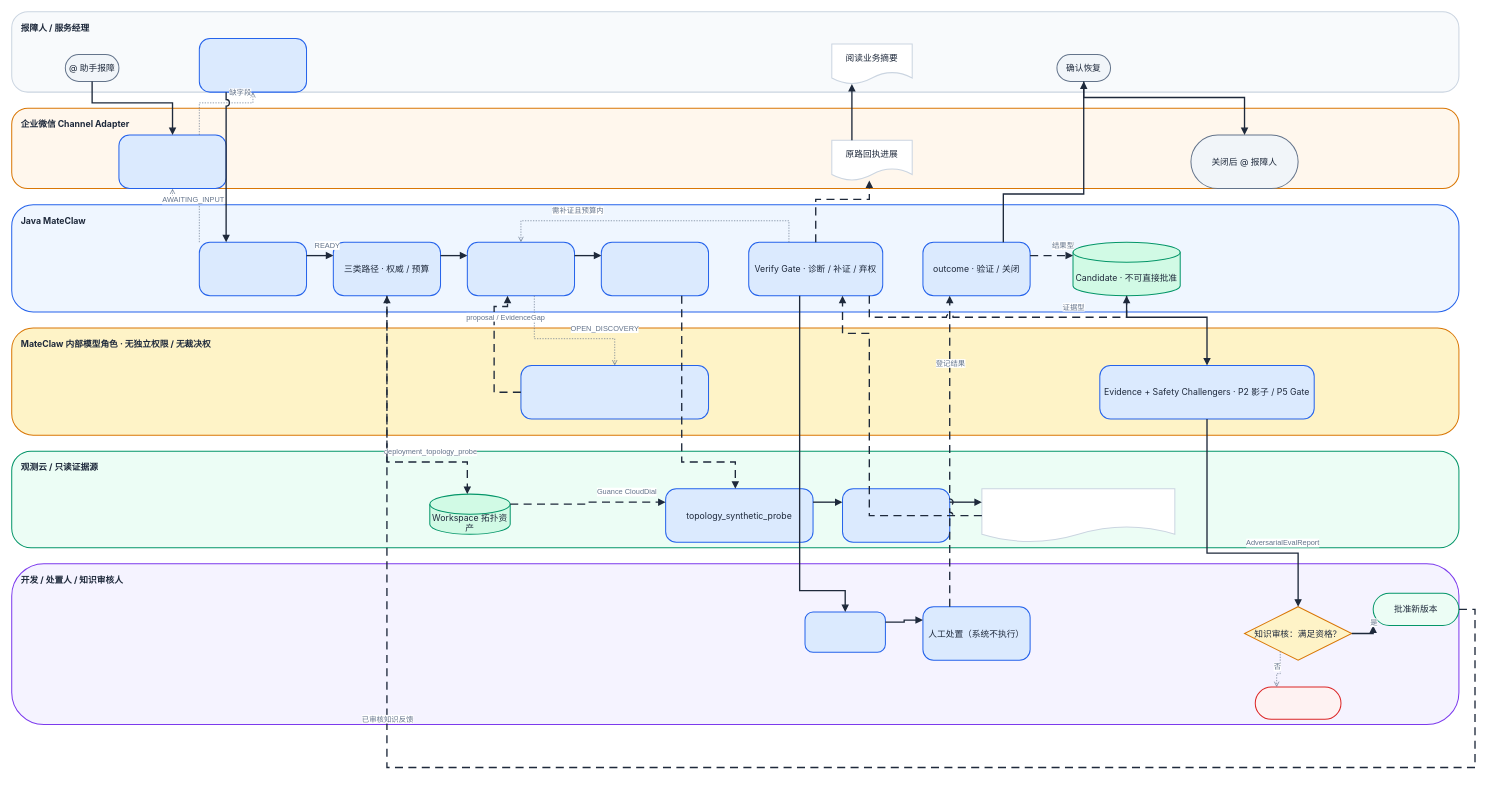
Some shapes in this 1493 by 785 pixel diagram are drawn without their labels. The centre of each missing label's shape, as x and y in pixels:
"canonical 安全证据" belongs at pixel 896 515.
"Diagnosis EvidenceBundle" belongs at pixel 1078 515.
"IntakeSession" belongs at pixel 253 268.
"Investigator · OPEN_DISCOVERY · 唯一只读门面" belongs at pixel 614 392.
"Loop Control" belongs at pixel 521 268.
"只读场景 Tool" belongs at pixel 655 268.
"开发核验证据" belongs at pixel 845 631.
"确认收到 / 补问" belongs at pixel 172 161.
"补客户 / 时间 / 截图" belongs at pixel 253 65.
"驳回并留痕" belongs at pixel 1297 702.
